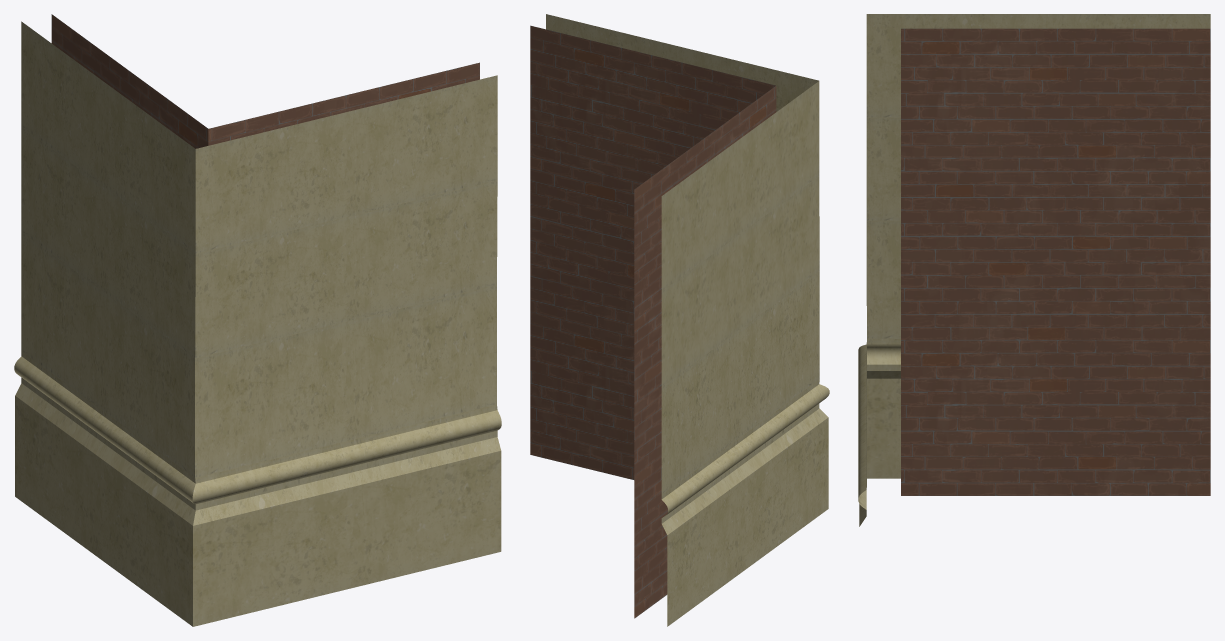
File: Trim_Corner.gltf
The picture shows the model from 3 angles, left to right: view 1: azimuth 30°, elevation 25°; view 2: azimuth 150°, elevation 25°; view 3: azimuth 270°, elevation 25°; orthographic projection. The views are drawn at different scales.
Visible parts, largest first — view 1: Trim_Corner; view 2: Trim_Corner; view 3: Trim_Corner.
Part boxes in pixels (x1,y1,x2,y2): Trim_Corner: [14, 14, 501, 626]; Trim_Corner: [530, 14, 829, 626]; Trim_Corner: [858, 14, 1210, 526].
Size of the model in its own units: 2.05 by 3 by 2.05.
2 materials, 2 textured.
